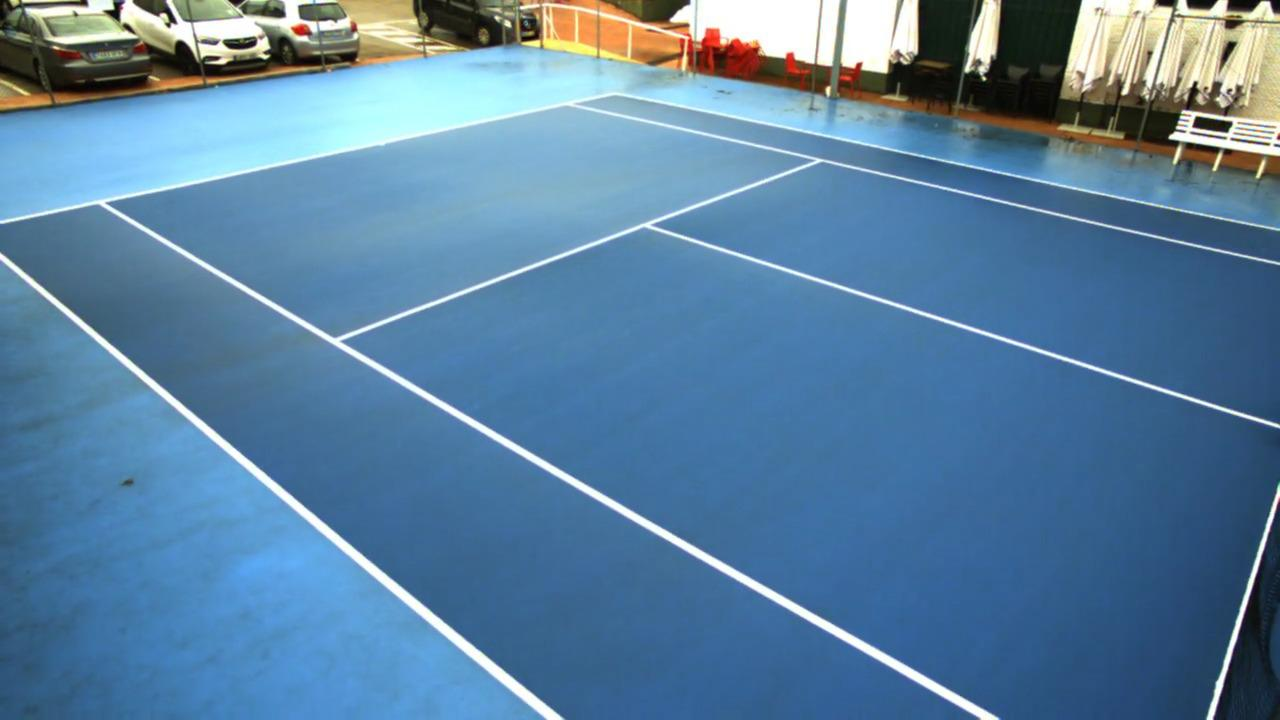cancha_tenis: (104, 104, 1272, 720)
point_f1: (88, 190, 126, 217)
point_f2: (558, 94, 584, 118)
point_fc1: (374, 136, 393, 156)
point_i1: (321, 327, 357, 353)
point_i2: (801, 147, 833, 172)
point_ic1: (632, 209, 667, 240)
